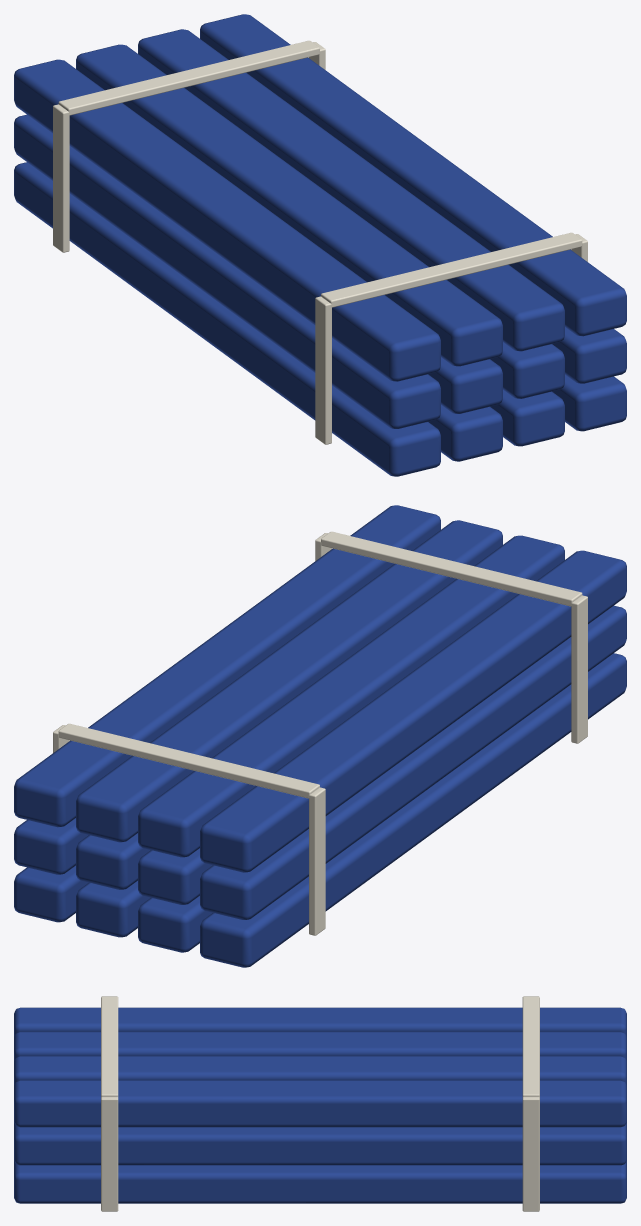
Rendered from steel_bundle.glb.
3 views of the same model, one above another, from view 1: azimuth 30°, elevation 25°; view 2: azimuth 150°, elevation 25°; view 3: azimuth 270°, elevation 25° (orthographic). The views are drawn at different scales.
Parts seen in each view (by area): view 1: steel_bundle_blue, steel_bundle_cream; view 2: steel_bundle_blue, steel_bundle_cream; view 3: steel_bundle_blue, steel_bundle_cream.
Part boxes in pixels (x1=…): steel_bundle_blue: x1=14, y1=14, x2=626, y2=476; steel_bundle_cream: x1=53, y1=40, x2=587, y2=444; steel_bundle_blue: x1=14, y1=505, x2=626, y2=967; steel_bundle_cream: x1=53, y1=531, x2=587, y2=935; steel_bundle_blue: x1=14, y1=1007, x2=626, y2=1203; steel_bundle_cream: x1=101, y1=996, x2=539, y2=1211.
Bounding box in the file's own units: 1.28 × 0.6625 × 3.2.
